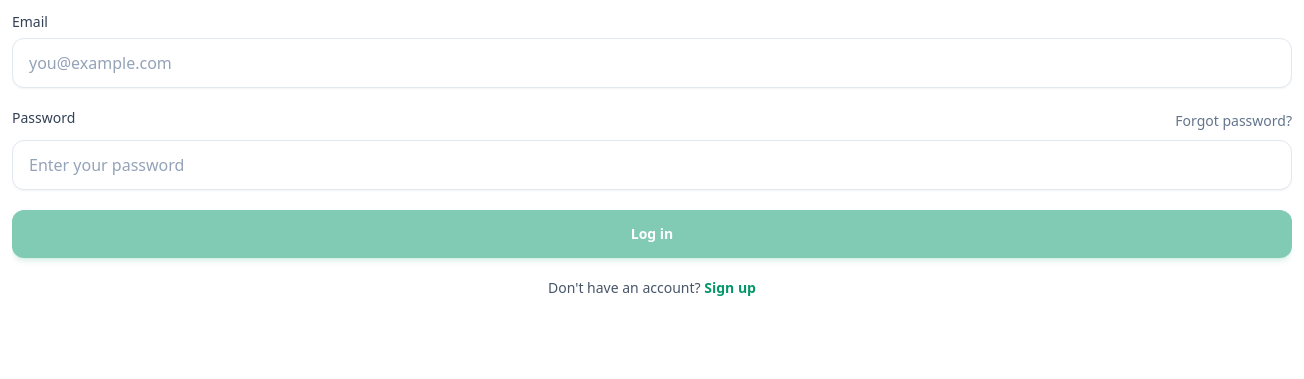
Test case: LoginForm › shows API error message when login fails (NFR1)
Type "a@test.com" into the field labelled "Email" at (652, 63), box [12,38,1292,88]
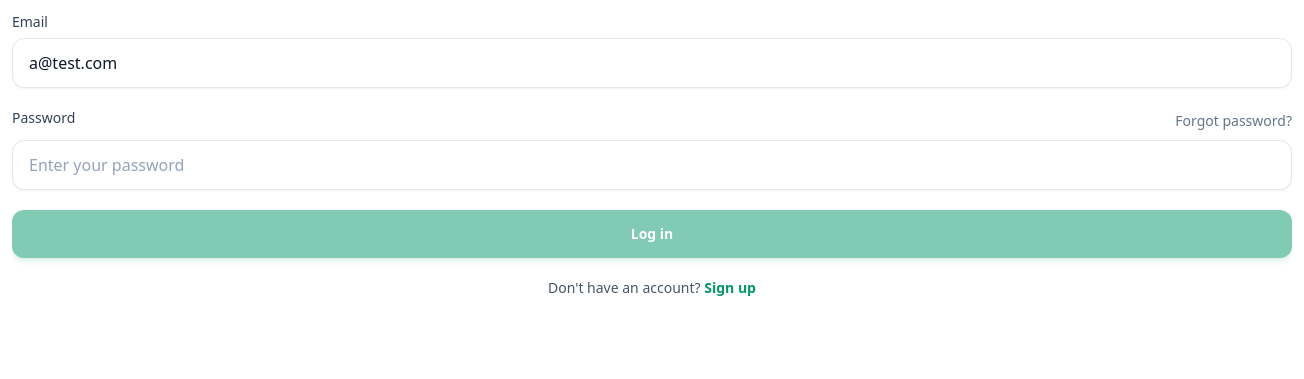
Type "wrongpass" into the password field with placeholder "Enter your password" at (652, 165), box [12,140,1292,190]
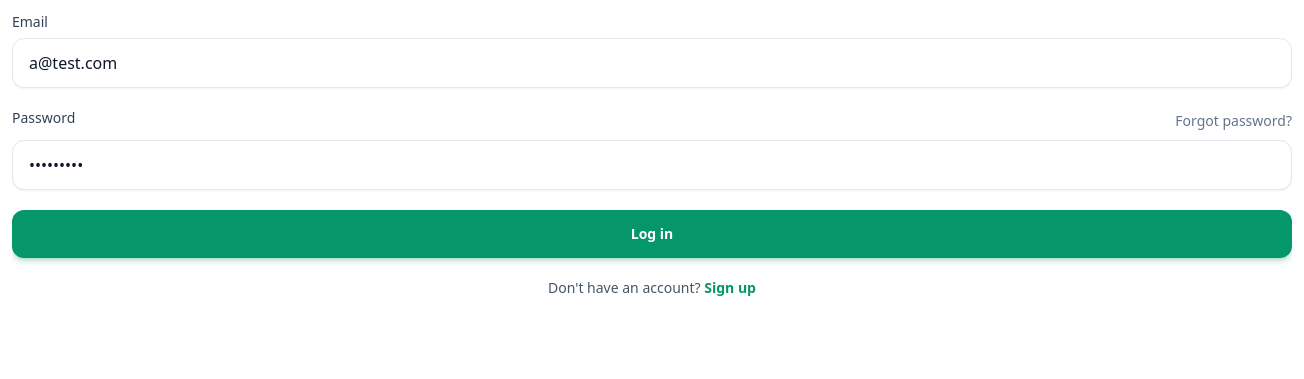
Click the button "Log in" at (652, 234), box [12,210,1292,258]
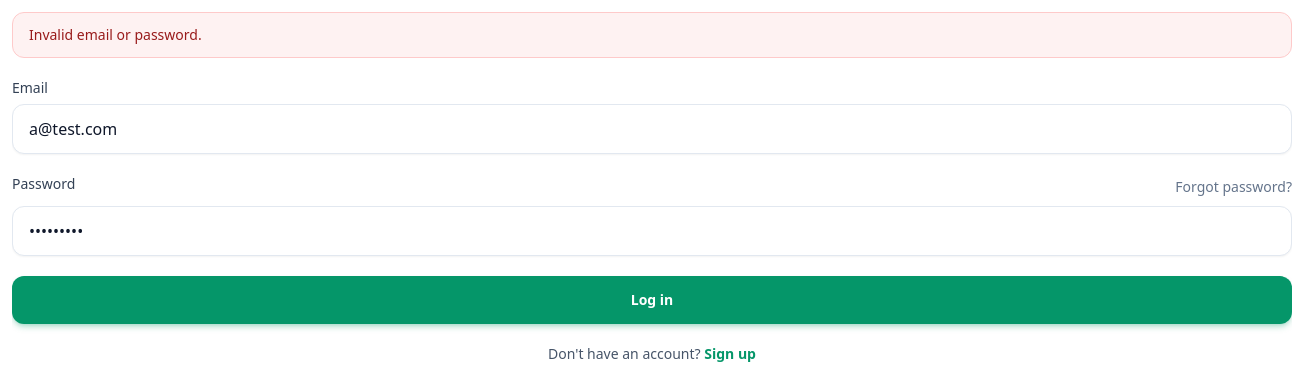
Check: the message reads "Invalid email or password.", box [29,25,202,44]
